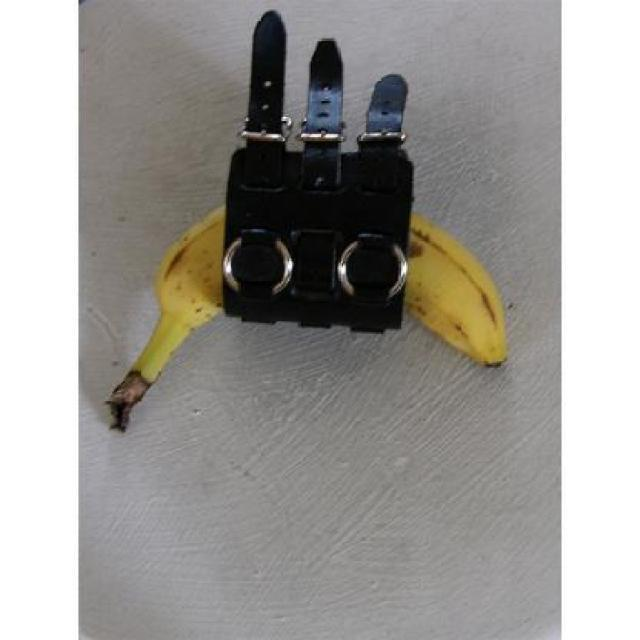Banana: (100, 198, 506, 427)
